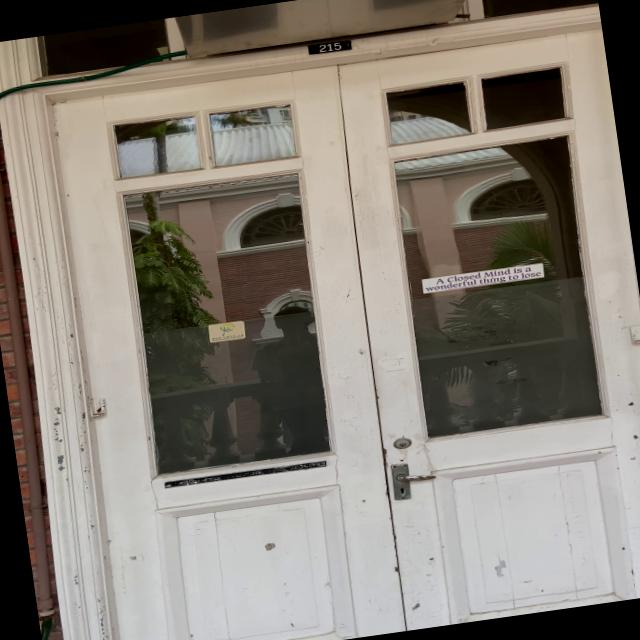room215: (302, 36, 354, 56)
